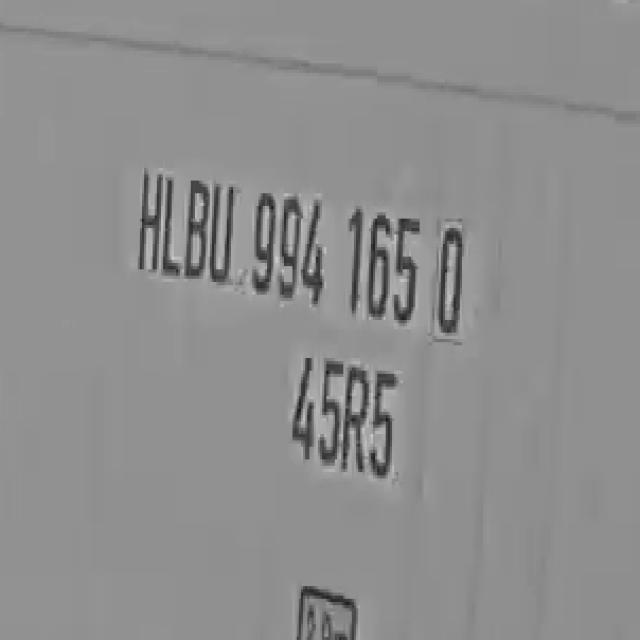dv: (424, 207, 477, 353)
owner: (123, 165, 238, 297)
serial: (250, 178, 418, 328)
size: (274, 339, 427, 508)
